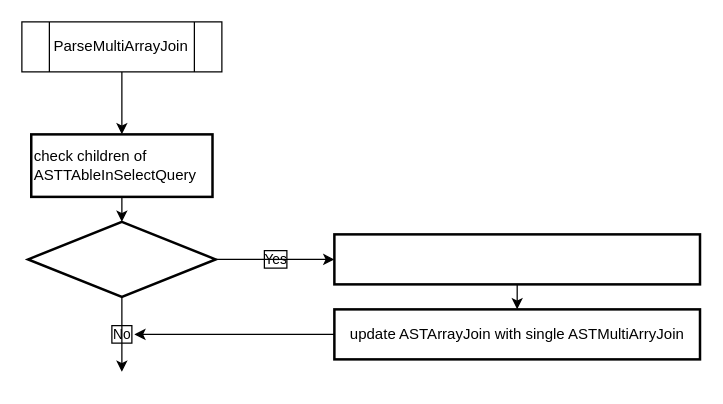
Image size: 723x404. Some labels were removed from this diagram. Here are the shapes that lost their labels. From the top down, the centre of each, then its label:
pixel 121 259: count(array join)>1
pixel 516 258: build ASTMultiArrayJoin from all ASTArrayJoin
